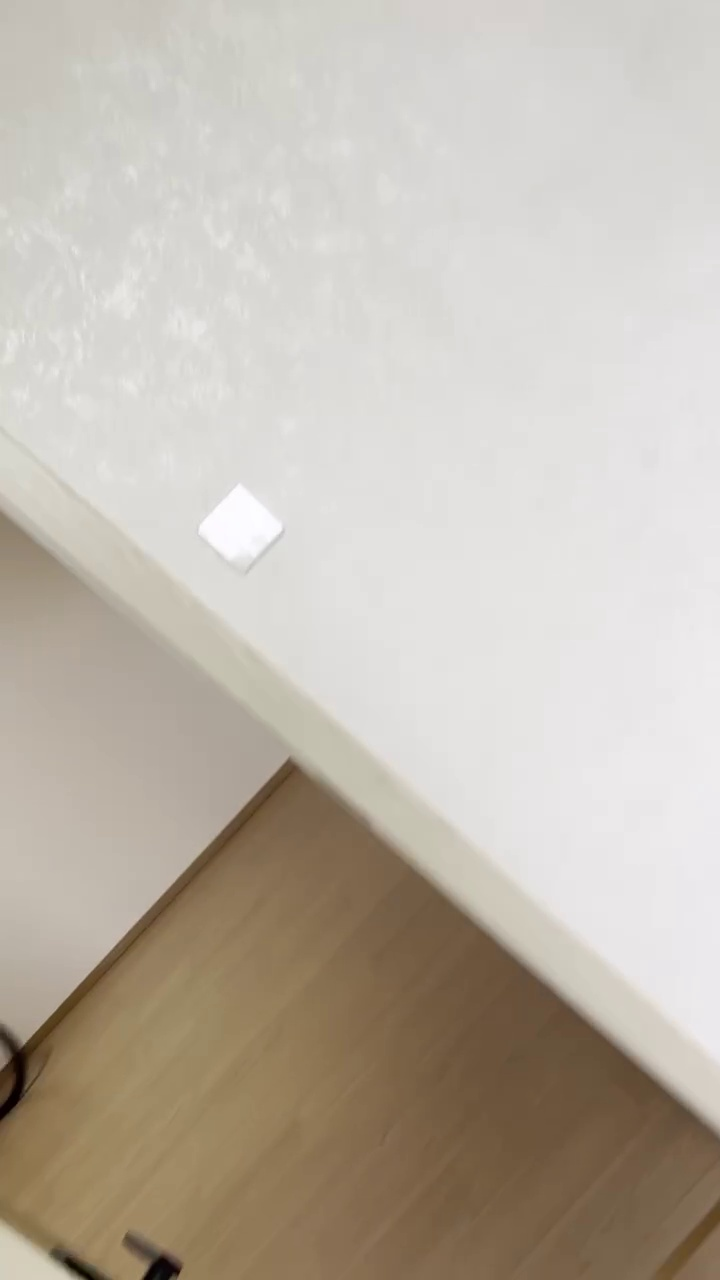button: (196, 481, 291, 576)
